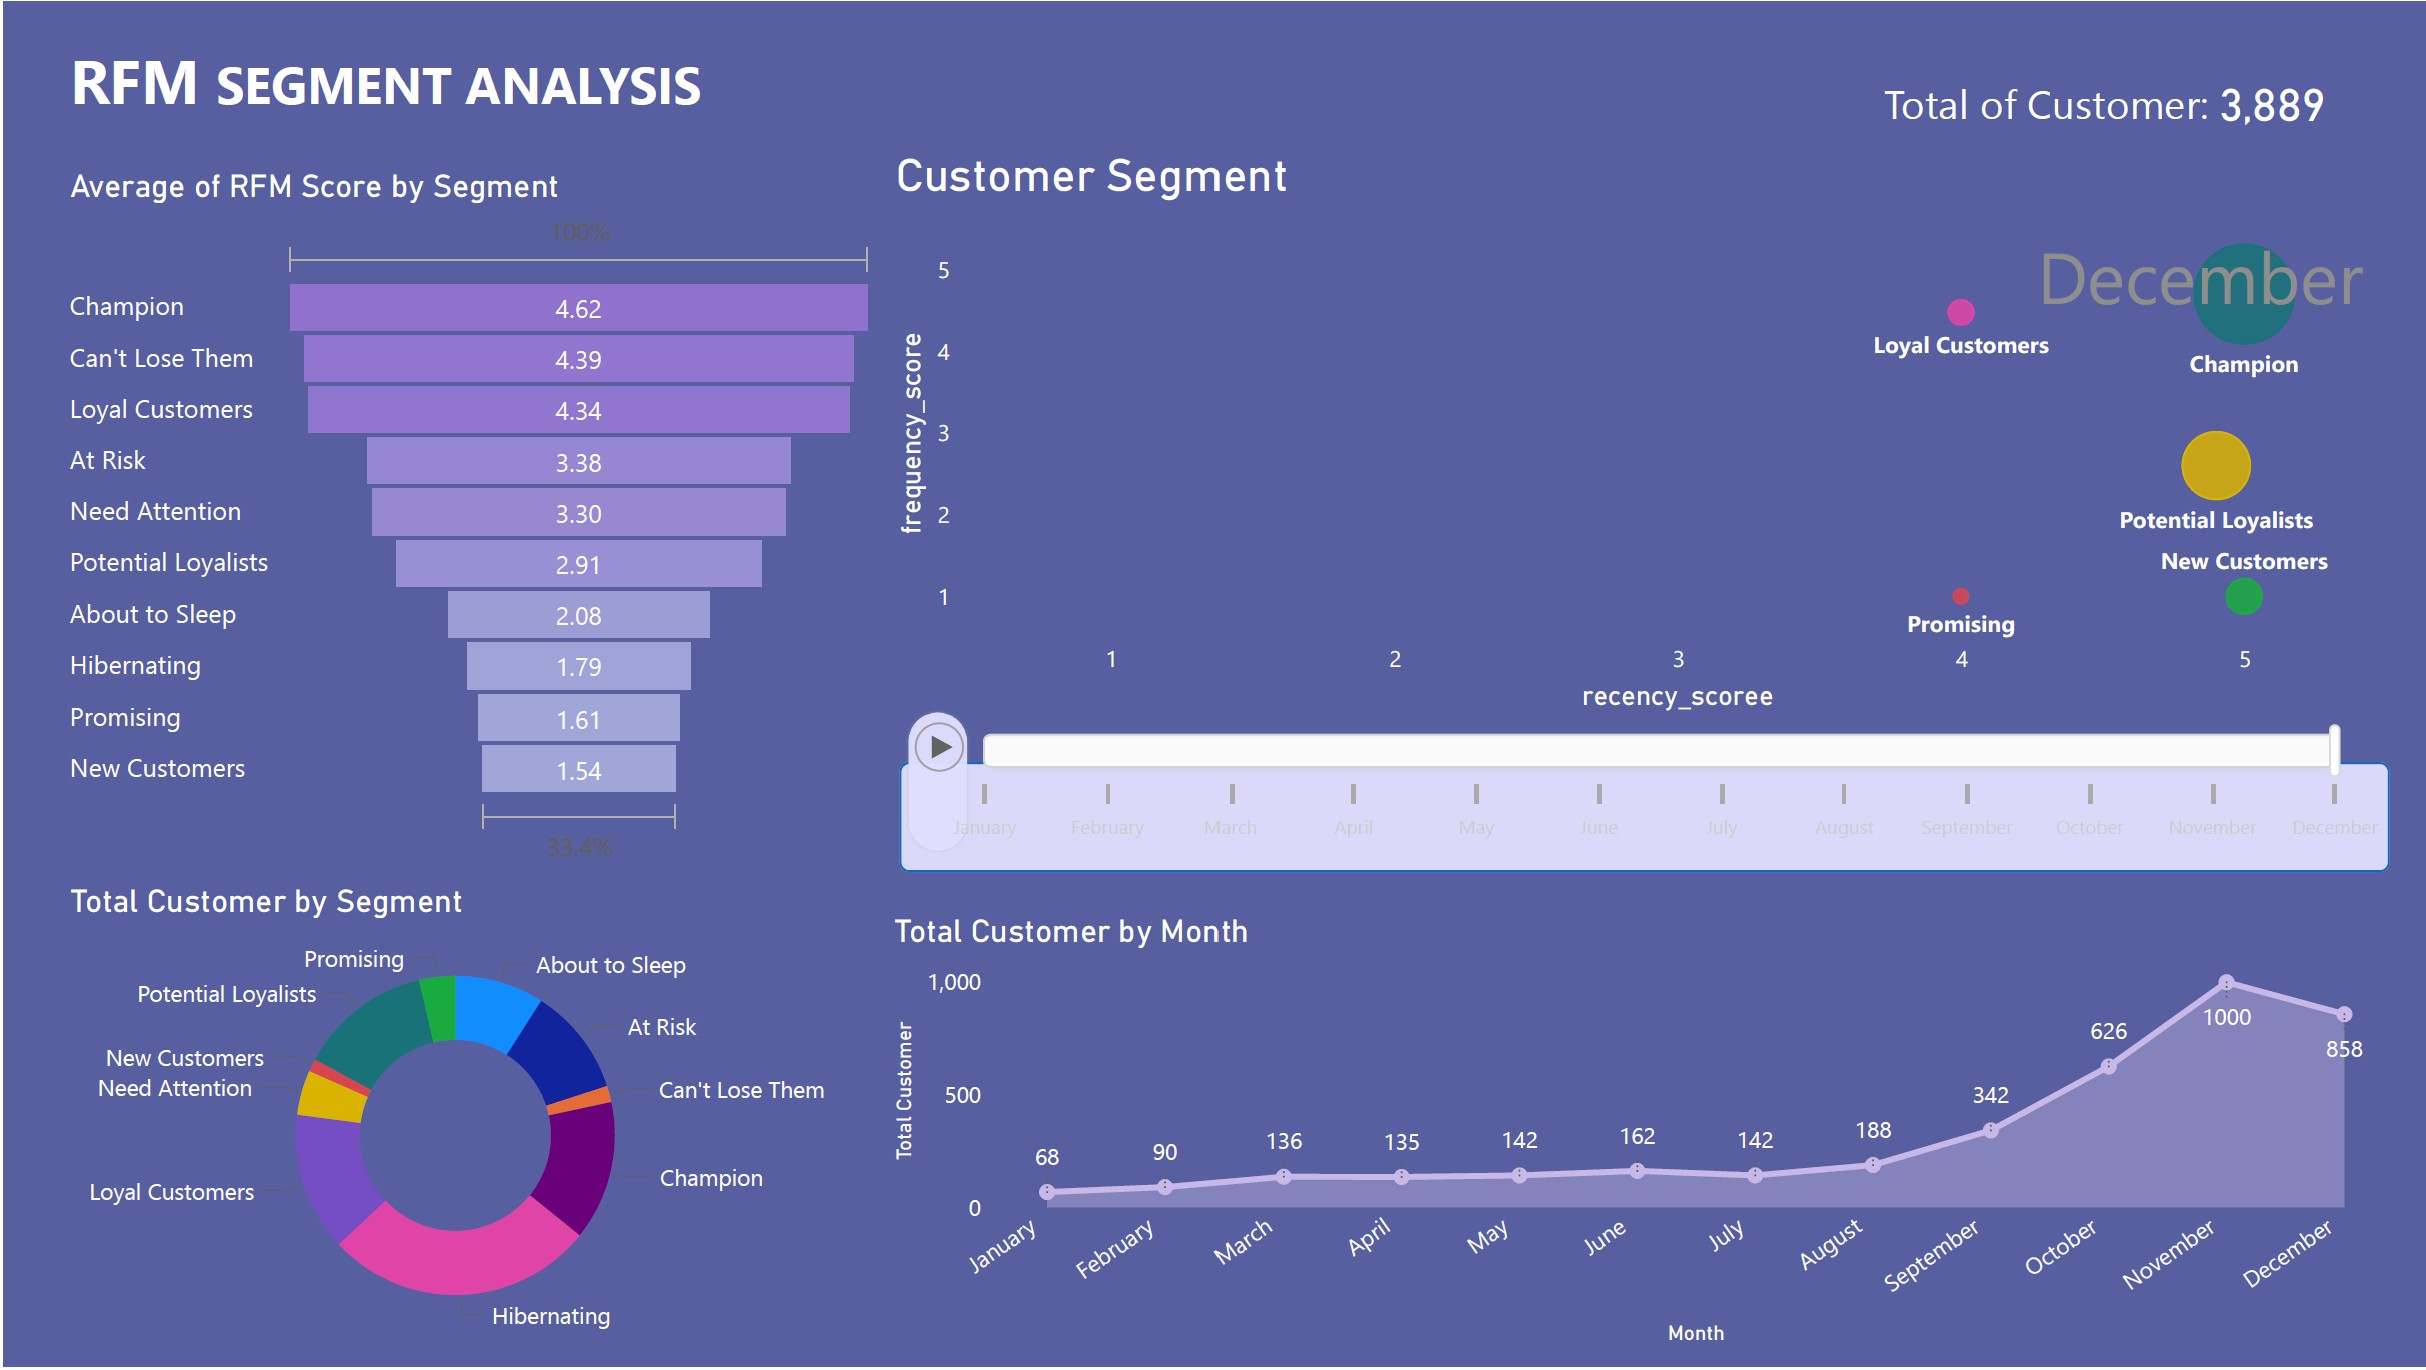

This screenshot's page, from the dashboard's own definition file:
{"tool":"powerbi","page":{"name":"Segmentation","canvas":[1280,720],"ordinal":0},"visuals":[{"type":"textbox","box":[30,14.3,417.1,58.6],"z":0},{"type":"shape","box":[472.9,401.4,785.7,57.1],"z":1000},{"type":"shape","box":[475.7,372.9,35.7,77.1],"z":2000},{"type":"scatterChart","title":"Customer Segment","fields":{"X":["Avg(customer_segmentation.recency_score)"],"Y":["Avg(customer_segmentation.frequency_score)"],"Size":["Sum(customer_segmentation.customer_id)"],"Category":["customer_segmentation.segment"],"Play":["customer_segmentation.max_order_date.Variation.Date Hierarchy.Month"]},"box":[465.7,72.9,800,385.7],"z":3000},{"type":"funnel","title":"Average of RFM Score by Segment","fields":{"Category":["customer_segmentation.segment"],"Y":["Avg(customer_segmentation.monetary_score)"]},"box":[30,87.1,435.7,372.9],"z":4000},{"type":"areaChart","title":"Total Customer by Month","fields":{"Category":["customer_segmentation.max_order_date.Variation.Date Hierarchy.Month"],"Y":["Count(customer_segmentation.customer_id)"]},"box":[465,480,800,233.3],"z":5000},{"type":"donutChart","title":"Total Customer by Segment","fields":{"Y":["Count(customer_segmentation.customer_id)"],"Series":["customer_segmentation.segment"]},"box":[30,464.3,417.1,248.6],"z":6000},{"type":"card","title":"Total of Customer","fields":{"Values":["Count(customer_segmentation.customer_id)"]},"box":[1161.7,30,70,48.3],"z":7000},{"type":"textbox","box":[986.7,34.4,191.1,40],"z":8000}]}

Visuals, with their boxes in screenshot pixels (x1, y1, x2, y2), scaled from the page's 1280x720 canvas onto the 2426x1370 screenshot:
textbox: [57, 27, 847, 139]
shape: [896, 764, 2385, 872]
shape: [902, 710, 969, 856]
"Customer Segment" scatterChart: [883, 139, 2399, 873]
"Average of RFM Score by Segment" funnel: [57, 166, 883, 875]
"Total Customer by Month" areaChart: [881, 913, 2398, 1357]
"Total Customer by Segment" donutChart: [57, 883, 847, 1356]
"Total of Customer" card: [2202, 57, 2334, 149]
textbox: [1870, 65, 2232, 142]
